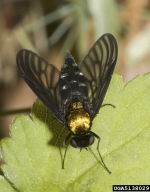Fruit fly: (1, 39, 137, 170)
